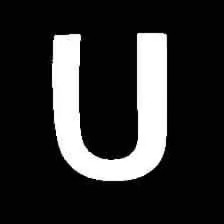LTR_U: (38, 17, 181, 188)
